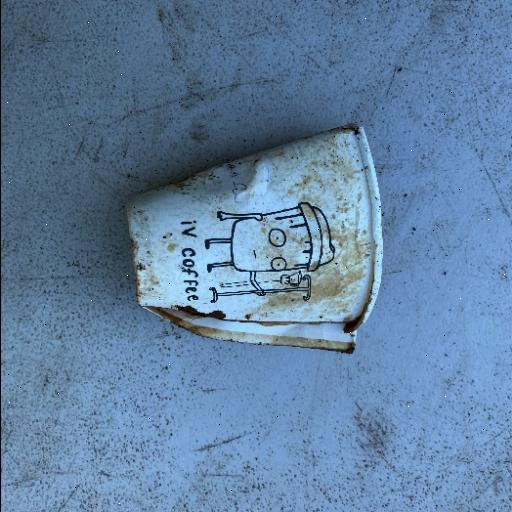Cardboard: (123, 123, 384, 355)
